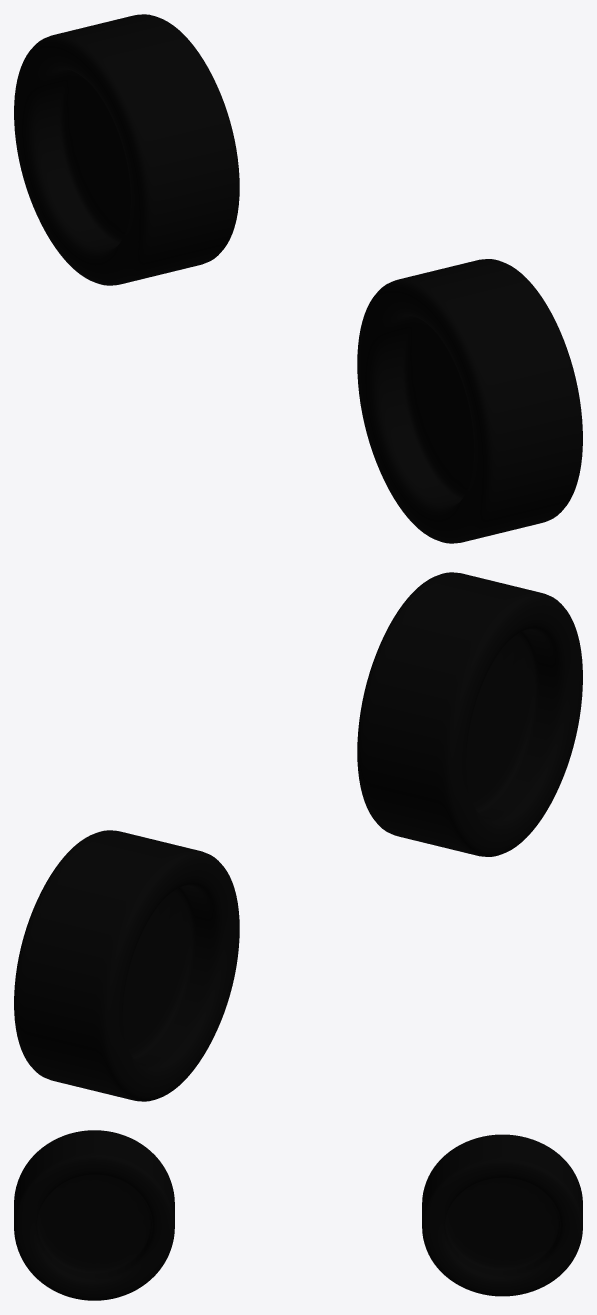
The model's file is wheels.fbx.
The picture shows the model from 3 angles, top to bottom: view 1: azimuth 30°, elevation 25°; view 2: azimuth 150°, elevation 25°; view 3: azimuth 270°, elevation 25°; orthographic projection. The views are drawn at different scales.
Visible parts, largest first — view 1: pasted__pCylinder5; view 2: pasted__pCylinder5; view 3: pasted__pCylinder5.
Boxes of the visible parts, left/top/right/bottom form: pasted__pCylinder5: left=14, top=14, right=582, bottom=543; pasted__pCylinder5: left=14, top=572, right=582, bottom=1101; pasted__pCylinder5: left=14, top=1130, right=582, bottom=1300.
Bounding box in the file's own units: 0.8287 × 1.97 × 6.96.
1 material, 1 textured.
